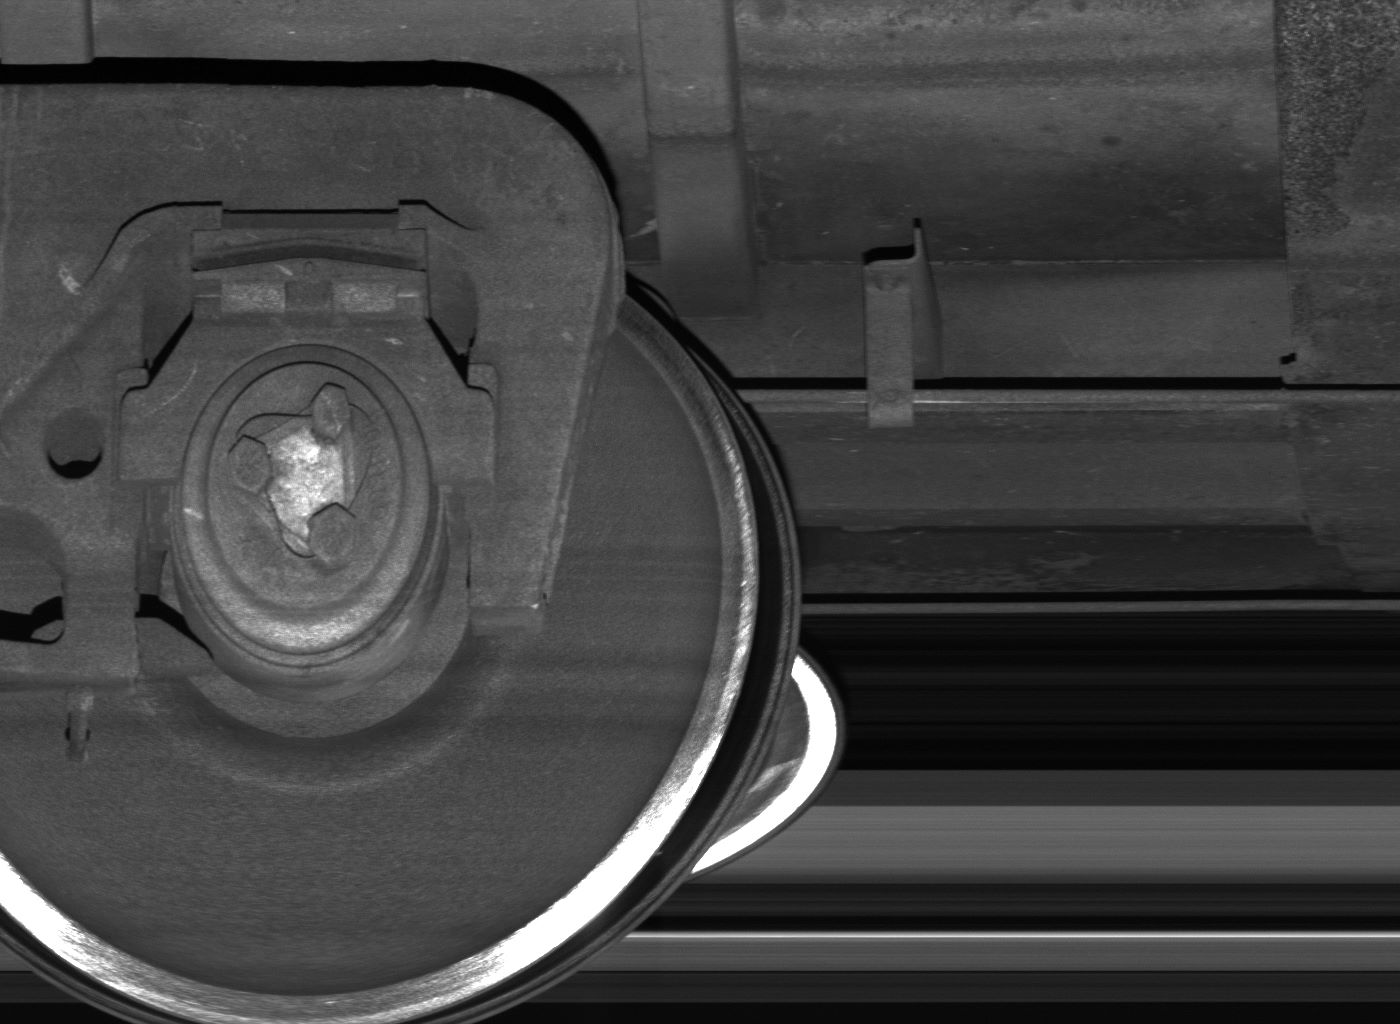normal: (863, 227, 940, 429)
